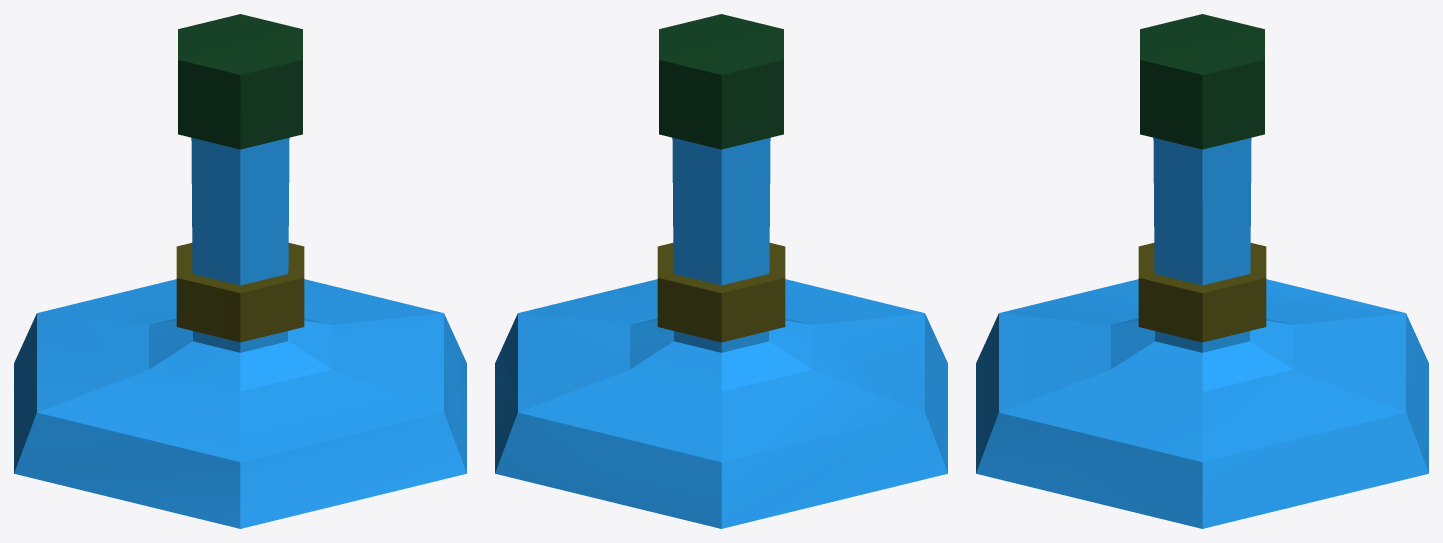
Rendered from Potion_02.fbx.
3 renders of one model, left to right at view 1: azimuth 30°, elevation 25°; view 2: azimuth 150°, elevation 25°; view 3: azimuth 270°, elevation 25°, orthographic.
Parts seen in each view (by area): view 1: potion_02; view 2: potion_02; view 3: potion_02.
Boxes of the visible parts, <box> form: potion_02: <box>14,14,466,528</box>; potion_02: <box>495,14,947,528</box>; potion_02: <box>976,14,1428,528</box>.
Bounding box in the file's own units: 352 × 278 × 305.
2 materials, 1 textured.
